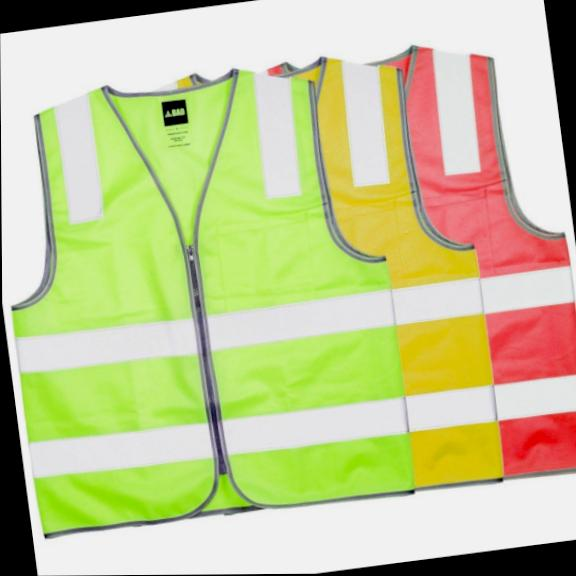safety_vest: (0, 49, 420, 545), (271, 40, 506, 505), (363, 27, 576, 495)
